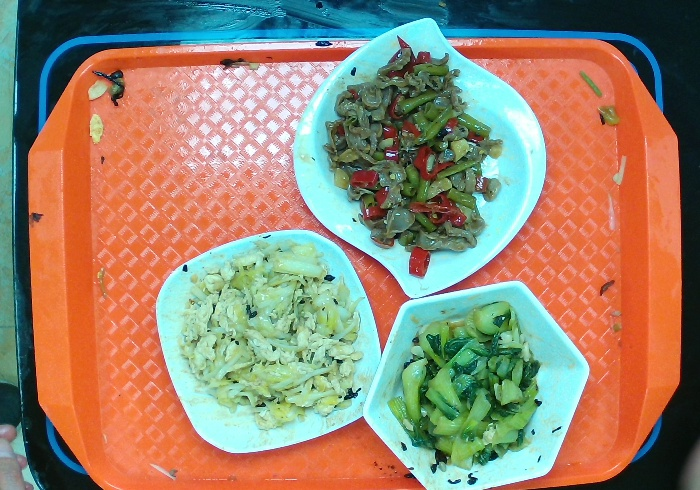RJxy-Liu_Jiao_Wan: (365, 274, 593, 488)
RJxy-Shuang_Jiao_Pan: (289, 15, 555, 297)
RJxy-Si_Fang_Wan: (141, 226, 386, 462)
